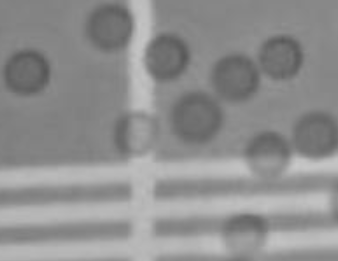cell: (166, 89, 226, 145), (206, 47, 263, 104), (80, 3, 139, 56), (240, 127, 294, 184), (215, 209, 273, 261), (289, 105, 338, 164), (109, 108, 163, 161), (138, 30, 192, 83), (254, 30, 306, 85), (1, 45, 54, 98)
